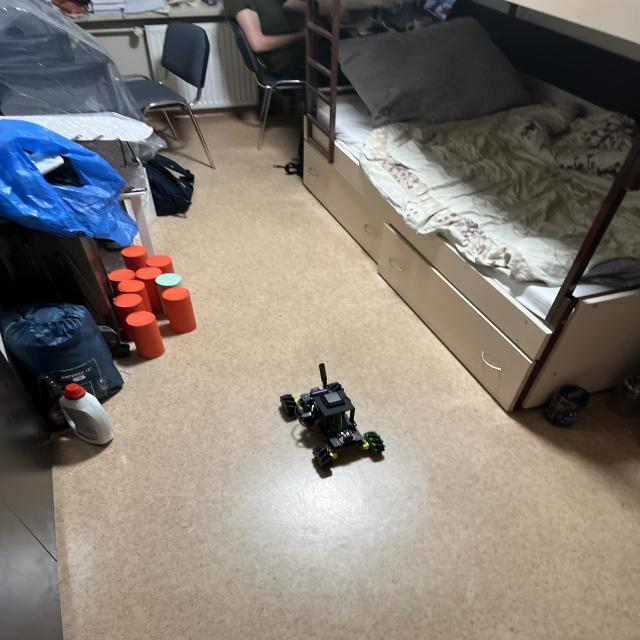robot: (280, 363, 385, 471)
